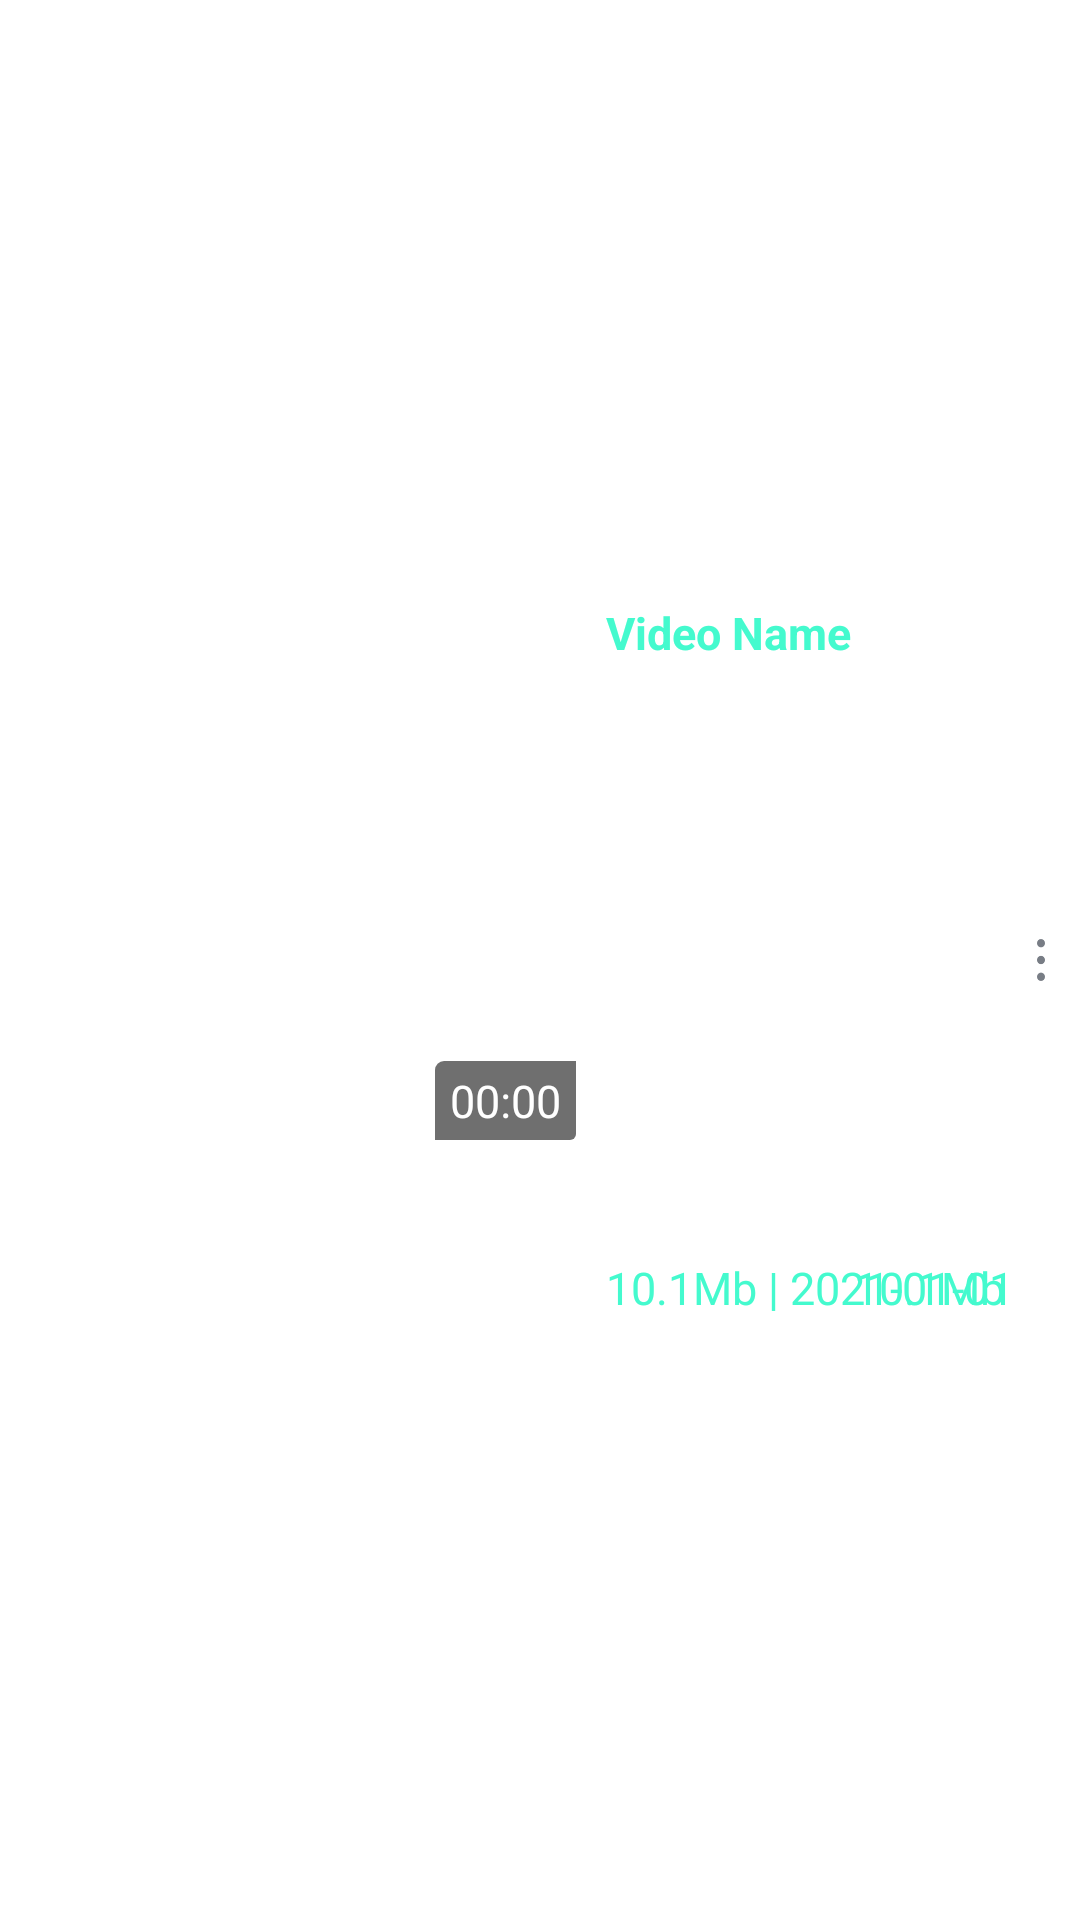

Where icons sit on this 1080 × 1920 app screen, as (x1=x1, y1=y1, x2=x2, y2=y2):
more: (x1=1037, y1=939, x2=1045, y2=981)
